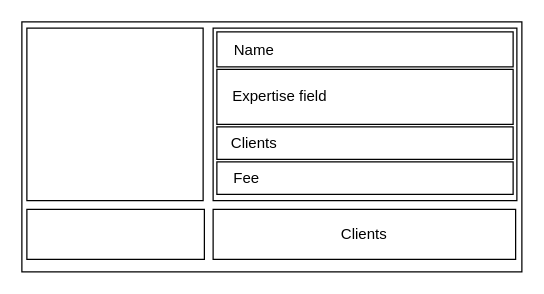
The diagram is 544 pixels wide and 294 high, and some of its shapes have lost their labels. The box of each missing label's shape, as (x1, y1, x2, y2) in pixels:
Button to Visit: (26, 208, 204, 259)
Image: (26, 27, 203, 201)
